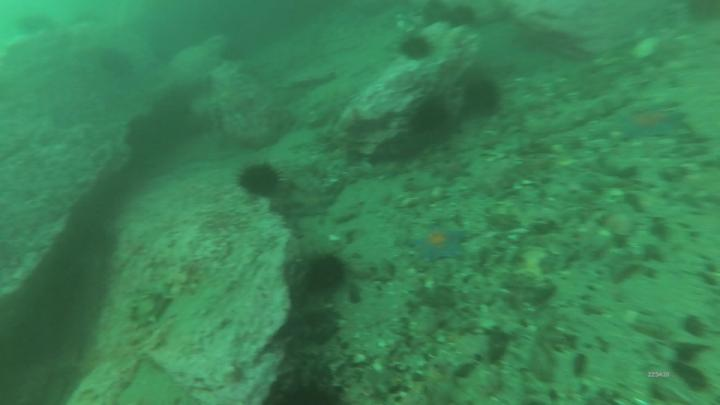echinus: (307, 255, 346, 293), (239, 165, 280, 195), (468, 79, 499, 115), (415, 105, 450, 132), (402, 37, 432, 60)
scallop: (636, 38, 658, 59), (351, 352, 367, 364), (376, 364, 387, 375)
starfish: (624, 105, 680, 139), (420, 224, 469, 259)
